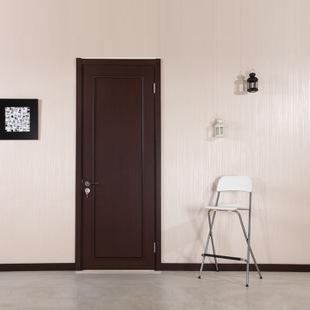door: (77, 58, 161, 269)
